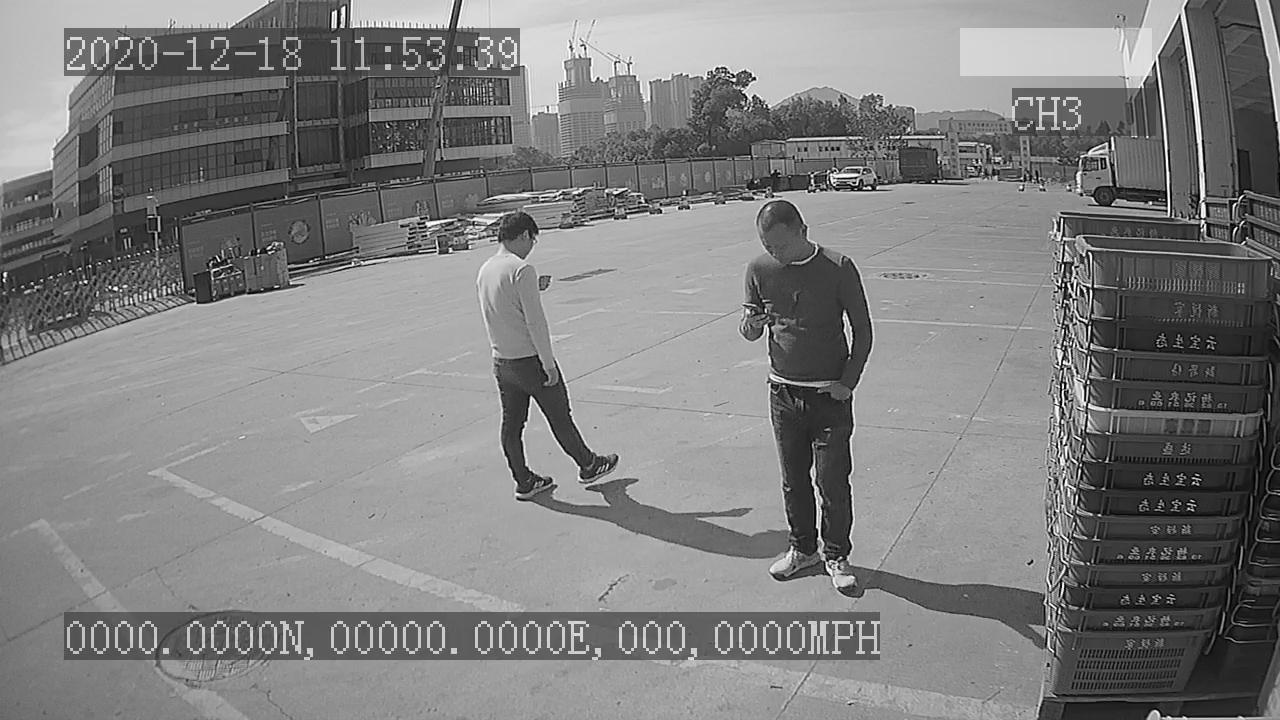person: (726, 194, 884, 601), (468, 204, 636, 510)
